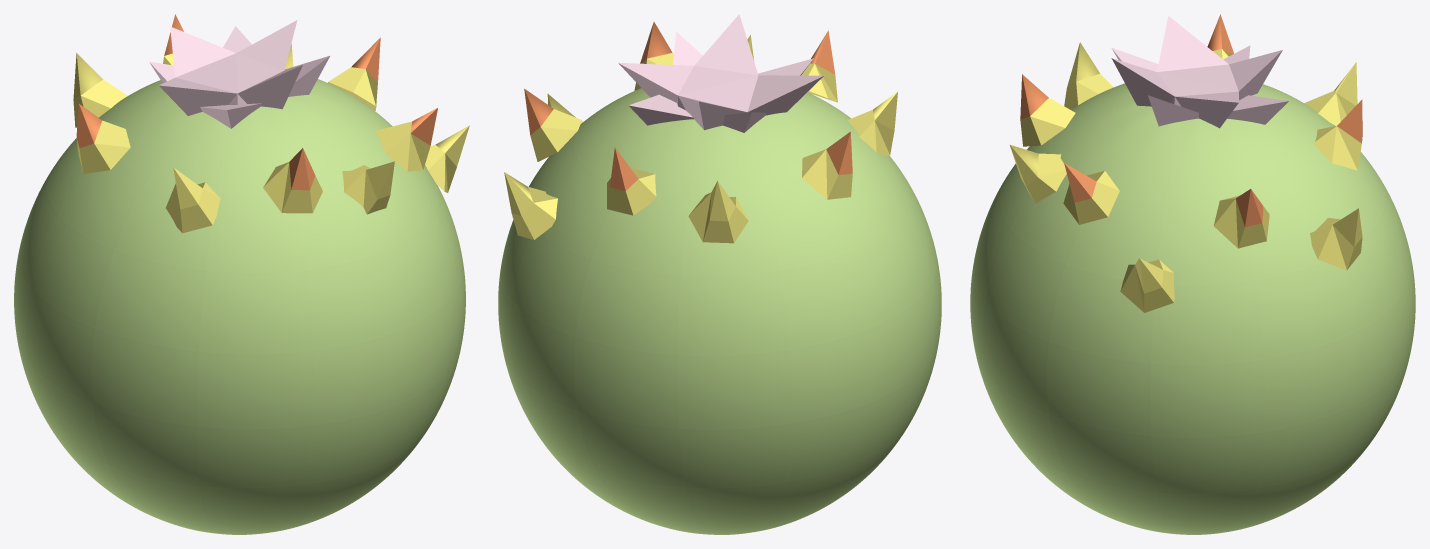
The model's file is cactus.fbx.
The picture shows the model from 3 angles, left to right: view 1: azimuth 30°, elevation 25°; view 2: azimuth 150°, elevation 25°; view 3: azimuth 270°, elevation 25°; orthographic projection.
Visible parts, largest first — view 1: mesh125507258, mesh369953184, mesh296149626, mesh1614855930, mesh1465621829, mesh1702201738, mesh1753872257, mesh1213481601, mesh699874392, mesh1827991255, mesh824528649; view 2: mesh125507258, mesh369953184, mesh1465621829, mesh296149626, mesh699874392, mesh1827991255, mesh168920341, mesh1978036829, mesh1702201738, mesh1614855930, mesh1753872257; view 3: mesh125507258, mesh369953184, mesh1465621829, mesh1827991255, mesh1614855930, mesh1753872257, mesh168920341, mesh824528649, mesh1978036829, mesh1213481601, mesh1702201738, mesh699874392 (+1 smaller).
Boxes of the visible parts, x1,y1,x2,y2 form: mesh125507258: (14,79,465,534); mesh369953184: (159,20,302,115); mesh296149626: (76,104,130,173); mesh1614855930: (263,148,322,213); mesh1465621829: (149,26,329,128); mesh1702201738: (166,167,220,233); mesh1753872257: (376,108,437,171); mesh1213481601: (342,161,394,214); mesh699874392: (73,53,127,127); mesh1827991255: (328,37,380,110); mesh824528649: (425,125,469,192); mesh125507258: (498,88,941,534); mesh369953184: (618,14,823,130); mesh1465621829: (628,31,813,132); mesh296149626: (802,131,852,199); mesh699874392: (688,181,748,243); mesh1827991255: (524,88,581,161); mesh168920341: (504,172,557,239); mesh1978036829: (607,147,656,215); mesh1702201738: (847,92,897,156); mesh1614855930: (801,30,837,102); mesh1753872257: (634,22,673,90); mesh125507258: (970,83,1415,534); mesh369953184: (1111,16,1282,128); mesh1465621829: (1111,45,1288,126); mesh1827991255: (1213,189,1269,248); mesh1614855930: (1020,74,1075,146); mesh1753872257: (1063,163,1119,224); mesh168920341: (1310,208,1362,270); mesh824528649: (1120,258,1174,312); mesh1978036829: (1313,99,1362,170); mesh1213481601: (1009,145,1066,203); mesh1702201738: (1064,42,1113,109); mesh699874392: (1304,62,1357,125).
Size of the model in its own units: 14.46 by 16.48 by 14.21.
